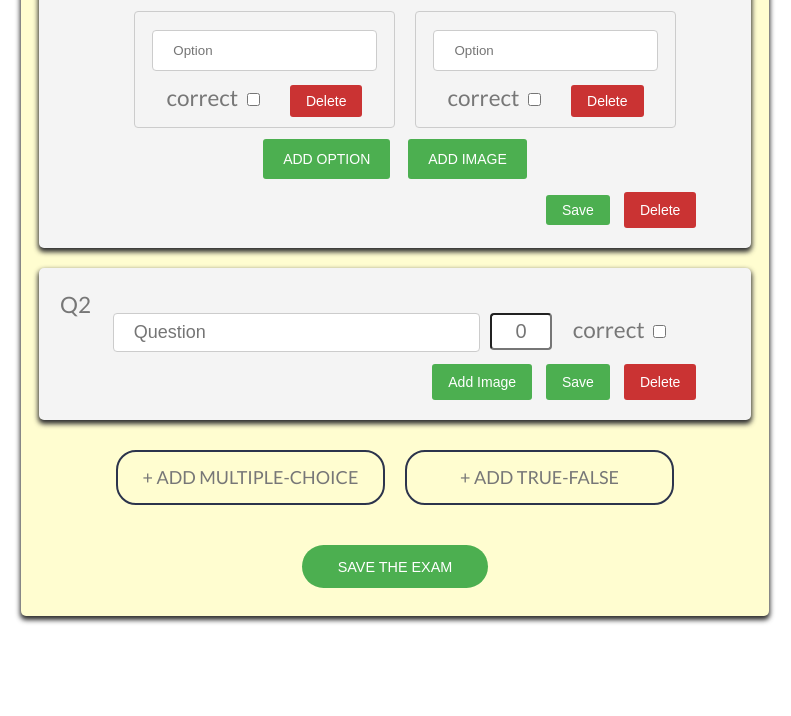
Adding Questions to ExamCreator › Adds True False Question to ExamCreator
(page scrolled)
Click the button "+ Add True-False".
click(540, 477)  # box [405,450,674,505]
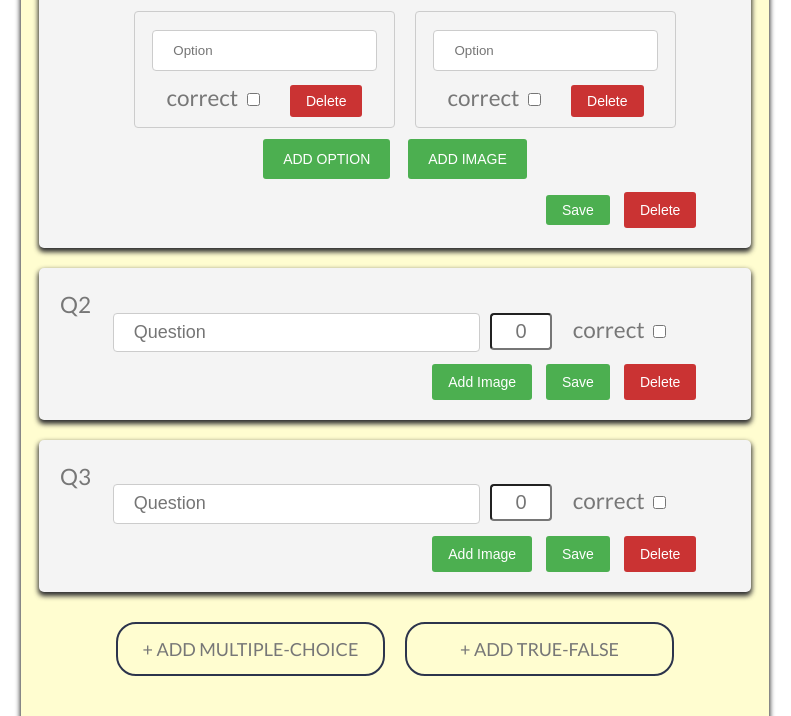
Expected: the text "Q3" is shown, [60,458,91,496]
